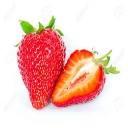strawberry: (16, 17, 67, 110), (50, 47, 109, 107)
